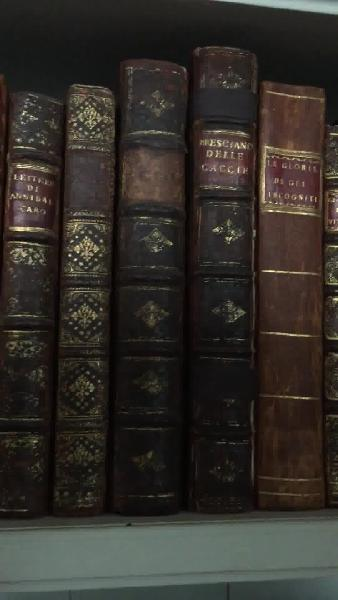Aa6-29: (7, 83, 64, 518)
Aa6-30: (59, 75, 113, 521)
Aa6-31: (112, 51, 188, 516)
Aa6-32: (192, 41, 259, 515)
Aa6-33: (257, 68, 330, 523)
